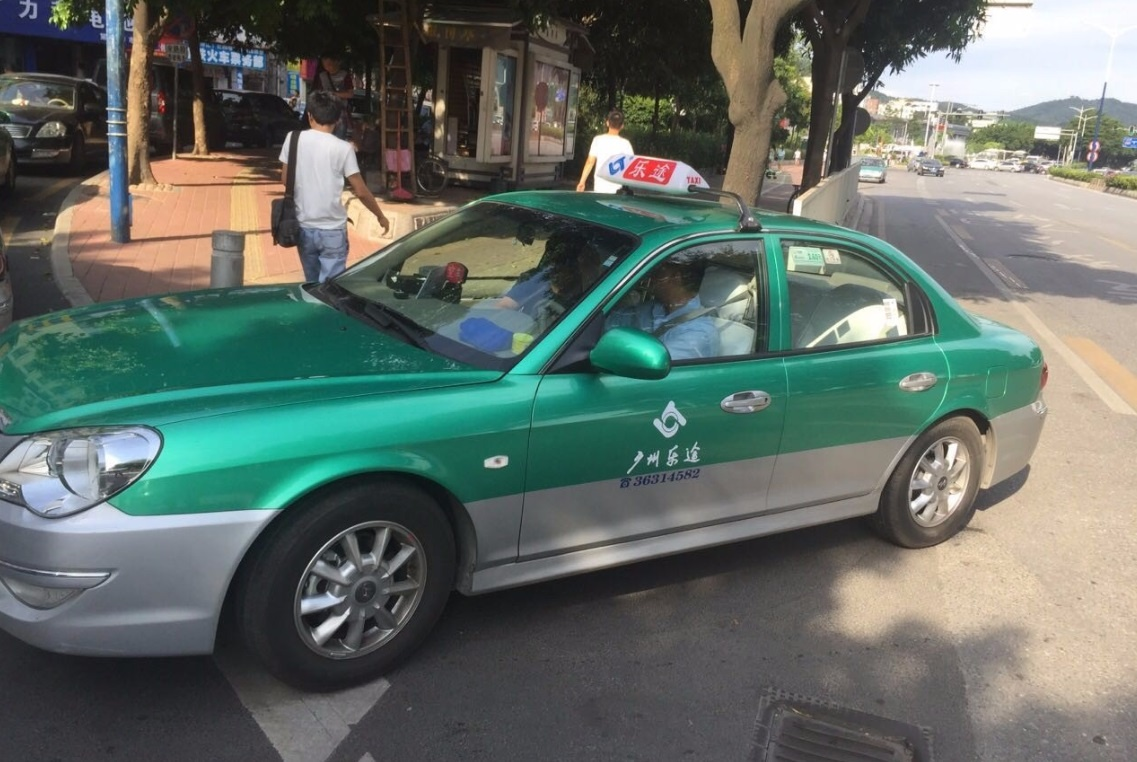taxi: (44, 150, 1058, 673)
